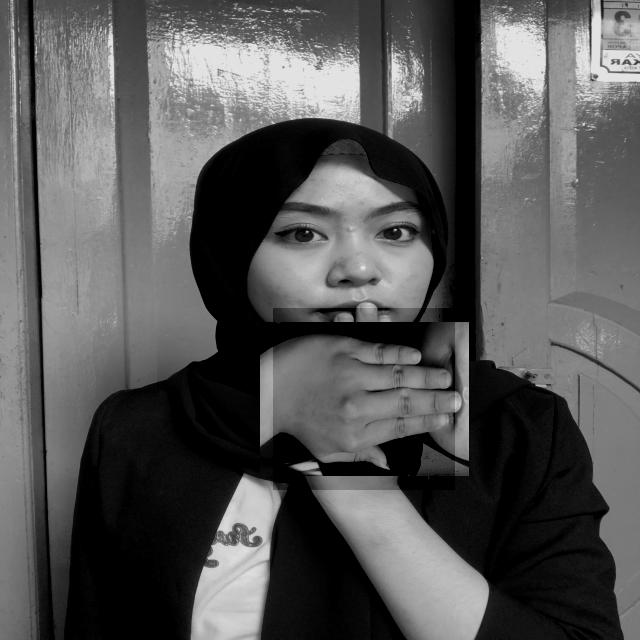ganteng: (273, 308, 455, 490)
